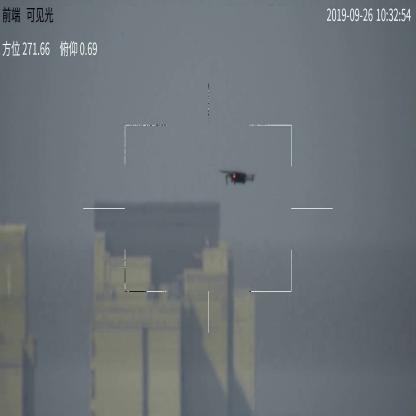uav: (221, 168, 262, 186)
